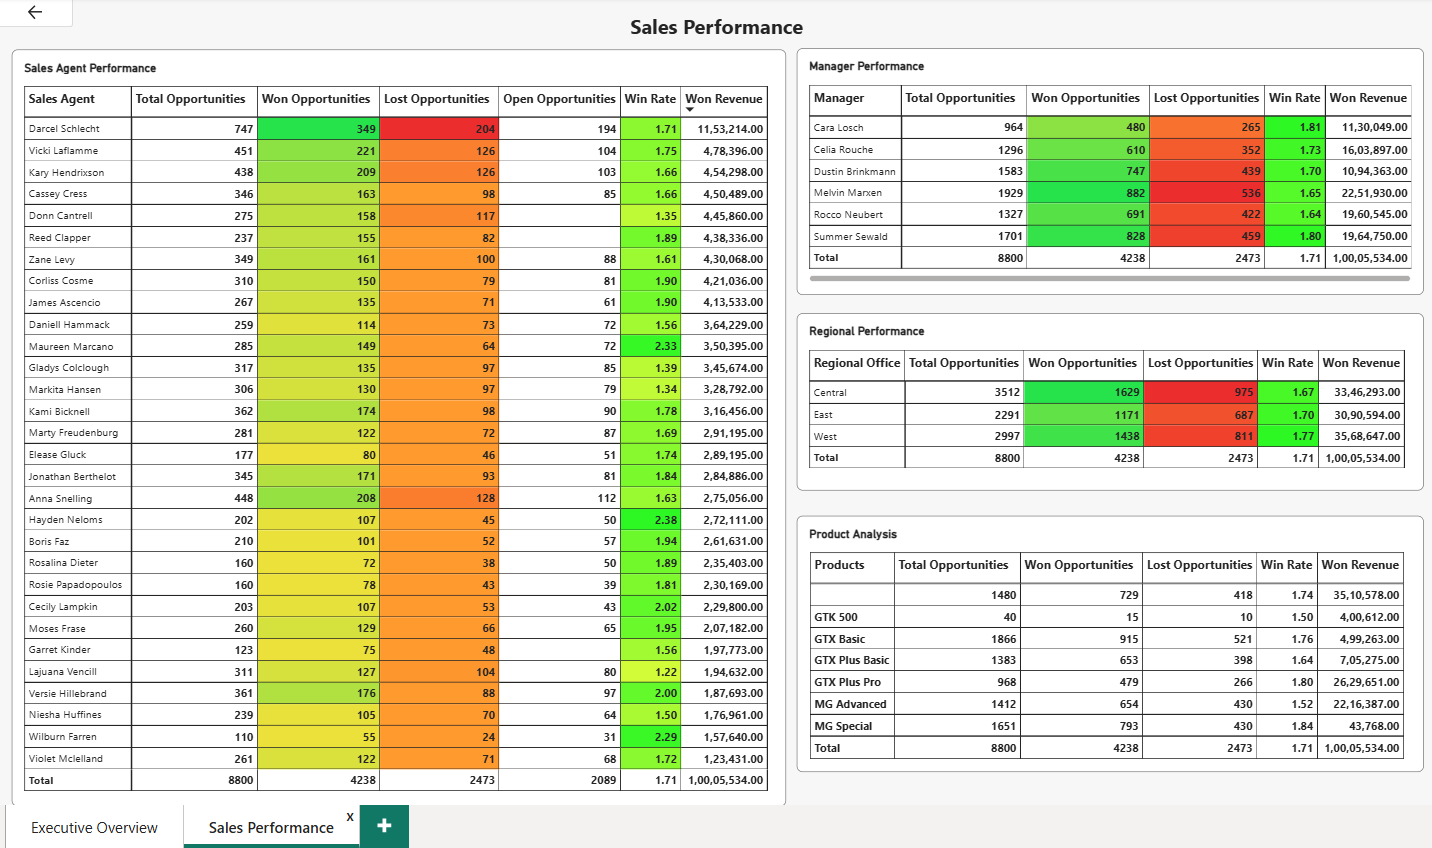

Layout of this report page (visuals, bound fields, positions):
{"tool":"powerbi","page":{"name":"Sales Performance","canvas":[1920,1080],"ordinal":1},"visuals":[{"type":"pivotTable","title":"Sales Agent Performance","fields":{"Rows":["Fact Table.sales_agent"],"Values":["Fact Table.Total Opportunities","Fact Table.Won Opportunities","Fact Table.Lost Opportunities","Fact Table.Open Opportunities","Fact Table.Win Rate","Fact Table.Won Revenue"]},"box":[18,69.5,1034.6,1011.5],"z":0},{"type":"pivotTable","title":"Manager Performance","fields":{"Rows":["Sales/Agent.manager"],"Values":["Fact Table.Total Opportunities","Fact Table.Won Opportunities","Fact Table.Lost Opportunities","Fact Table.Win Rate","Fact Table.Won Revenue"]},"box":[1067.7,68.8,837.9,329.4],"z":1000},{"type":"pivotTable","title":"Regional Performance","fields":{"Rows":["Sales/Agent.regional_office"],"Values":["Fact Table.Total Opportunities","Fact Table.Won Opportunities","Fact Table.Lost Opportunities","Fact Table.Win Rate","Fact Table.Won Revenue"]},"box":[1067.7,421.7,837.9,237.1],"z":2000},{"type":"tableEx","title":"Product Analysis","fields":{"Values":["Products.product","Fact Table.Total Opportunities","Fact Table.Won Opportunities","Fact Table.Lost Opportunities","Fact Table.Win Rate","Fact Table.Won Revenue"]},"box":[1067.7,693.1,837.9,342],"z":3000},{"type":"actionButton","box":[0,0,100,40],"z":4000},{"type":"textbox","box":[0,20.6,1920,77.2],"z":5000}]}

Visuals, with their boxes on the page's 1920x1080 design canvas (x1, y1, x2, y2). These are canvas units, not pixel positions in the 1432x848 screenshot, which may show the page scaled, cropped or inside an application window:
"Sales Agent Performance" pivotTable: 18,70,1053,1081
"Manager Performance" pivotTable: 1068,69,1906,398
"Regional Performance" pivotTable: 1068,422,1906,659
"Product Analysis" tableEx: 1068,693,1906,1035
actionButton: 0,0,100,40
textbox: 0,21,1920,98
